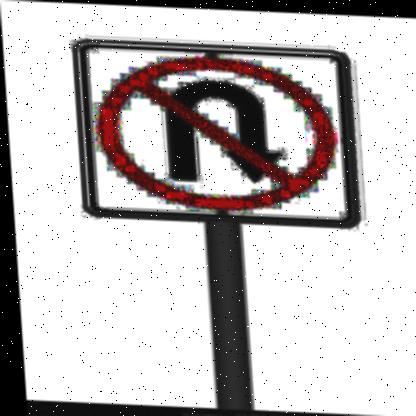No U-turn: (79, 44, 346, 220)
